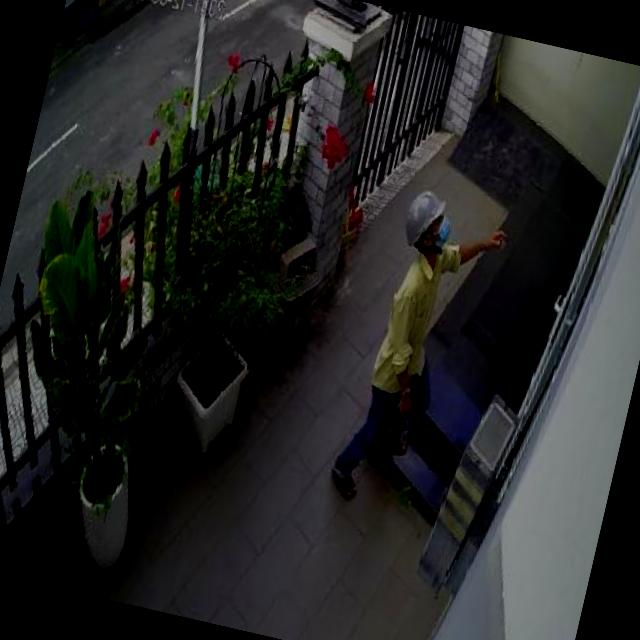Person: (324, 182, 513, 522)
